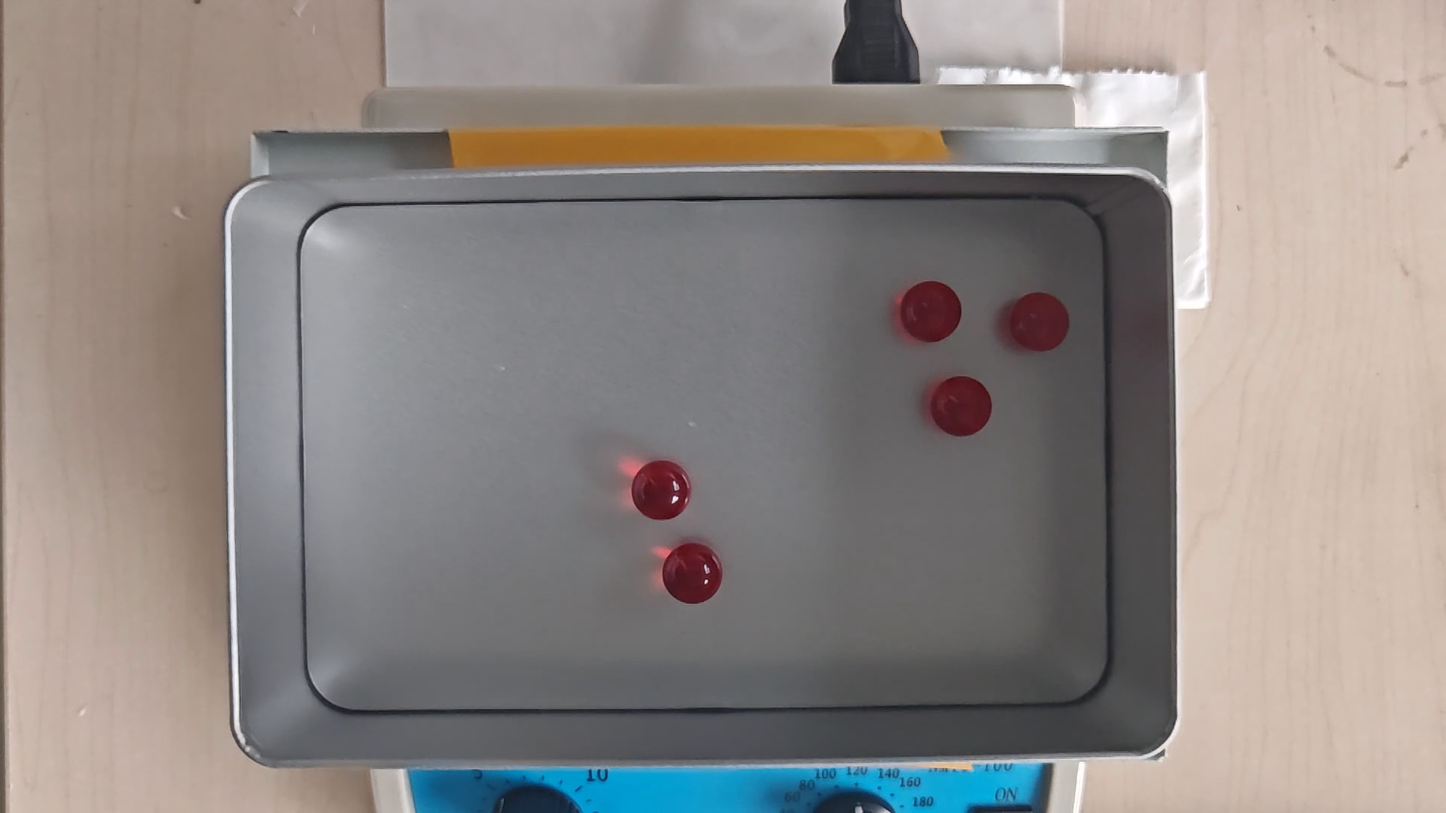ball: (932, 374, 991, 440), (902, 281, 962, 343), (663, 542, 722, 605), (1009, 293, 1069, 351), (633, 461, 691, 520)
container: (294, 199, 1112, 712)
